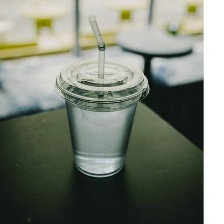drinking_straw: (82, 13, 112, 78)
glass: (51, 51, 148, 182)
